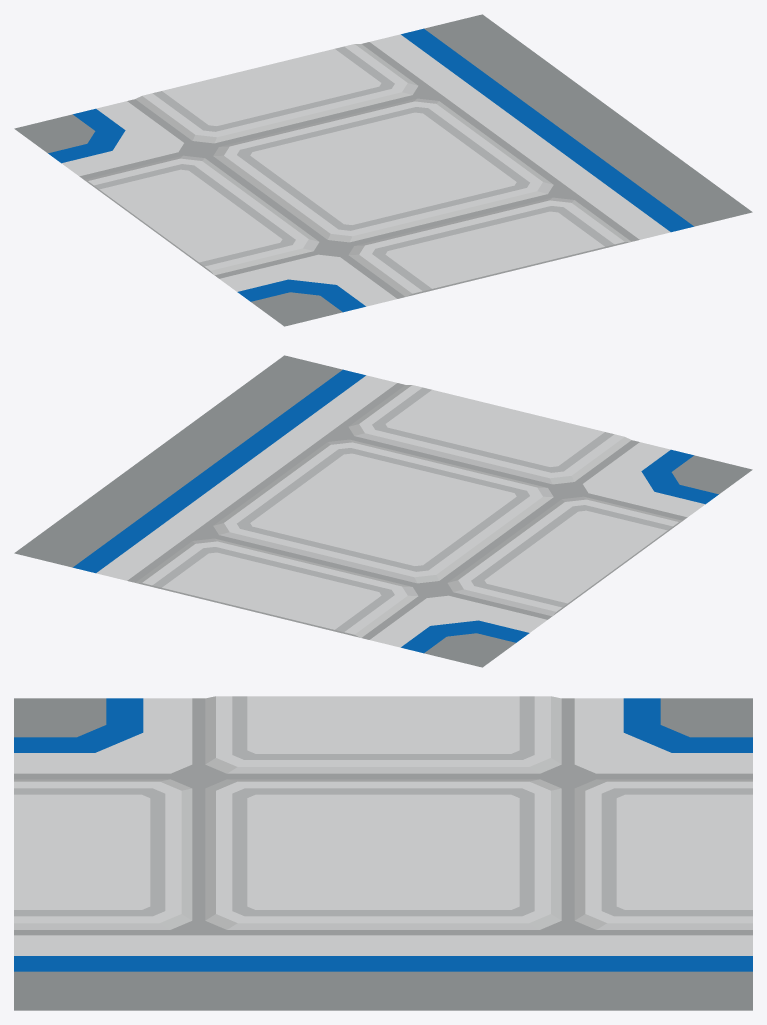
File: Floor_type_A_020.fbx
3 views of the same model, one above another, from view 1: azimuth 30°, elevation 25°; view 2: azimuth 150°, elevation 25°; view 3: azimuth 270°, elevation 25° (orthographic). The views are drawn at different scales.
Visible parts, largest first — view 1: Floor_type_A_020; view 2: Floor_type_A_020; view 3: Floor_type_A_020.
Boxes of the visible parts, x1,y1,x2,y2 form: Floor_type_A_020: [14, 14, 752, 326]; Floor_type_A_020: [14, 355, 752, 667]; Floor_type_A_020: [14, 696, 752, 1010].
Size of the model in its own units: 400 by 400 by 1.34.
